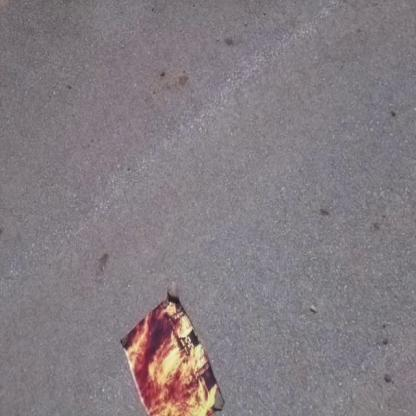fire-poster: (119, 281, 225, 415)
